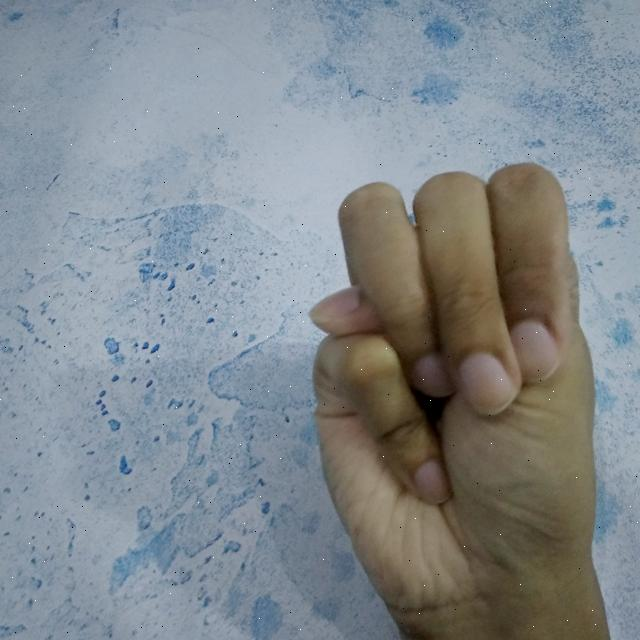M: (303, 155, 613, 640)
